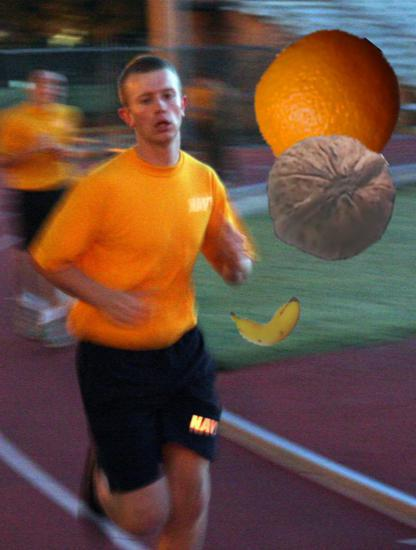Banana: (234, 285, 306, 357)
Orange: (254, 29, 403, 178)
Walnut: (263, 130, 397, 264)
